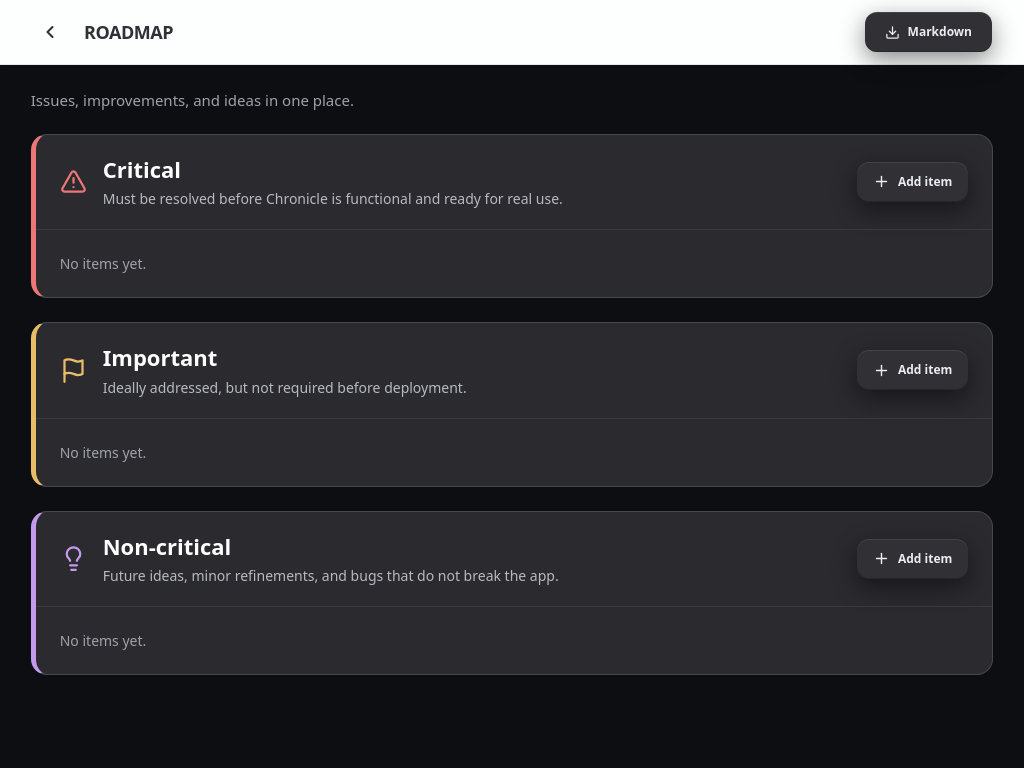
Scenario: Chronicle Roadmap › retains unsaved text on network failure and retries the same item
The image size is (1024, 768).
Expected: the heading "Critical" is shown, x1=103 y1=154 x2=181 y2=184
Click the button with aria-label "Add item to Critical" at [913, 182], box x1=857 y1=162 x2=968 y2=202
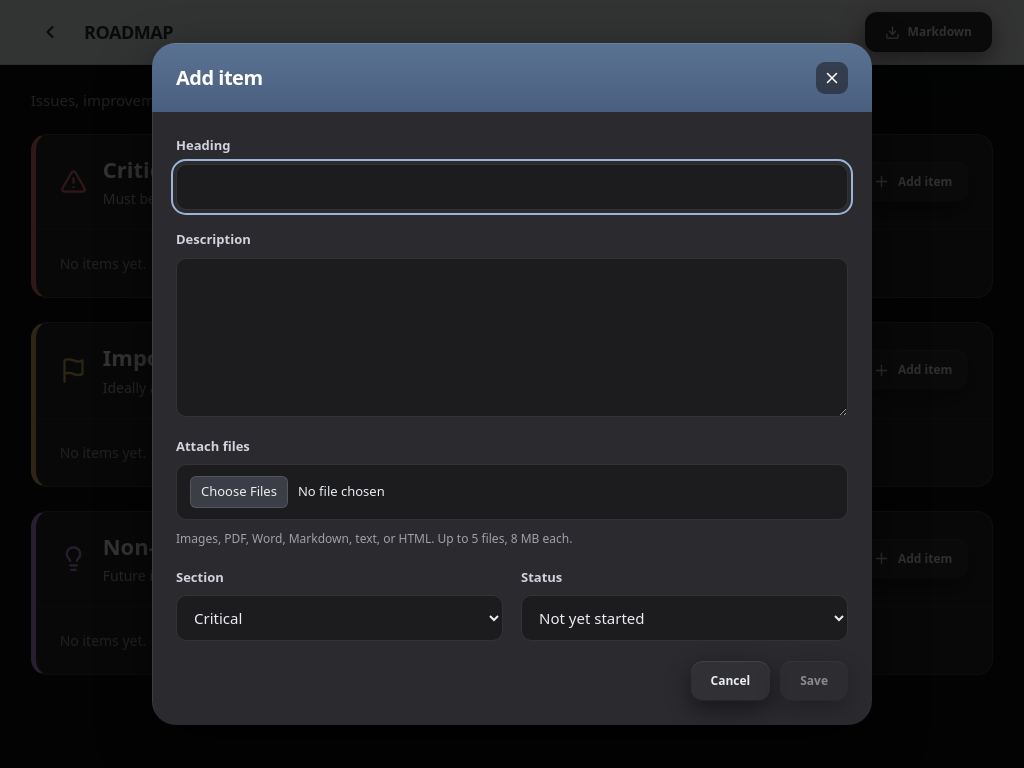
Type "Keep my draft" into the field labelled "Heading" at [512, 187], box x1=176 y1=164 x2=848 y2=210
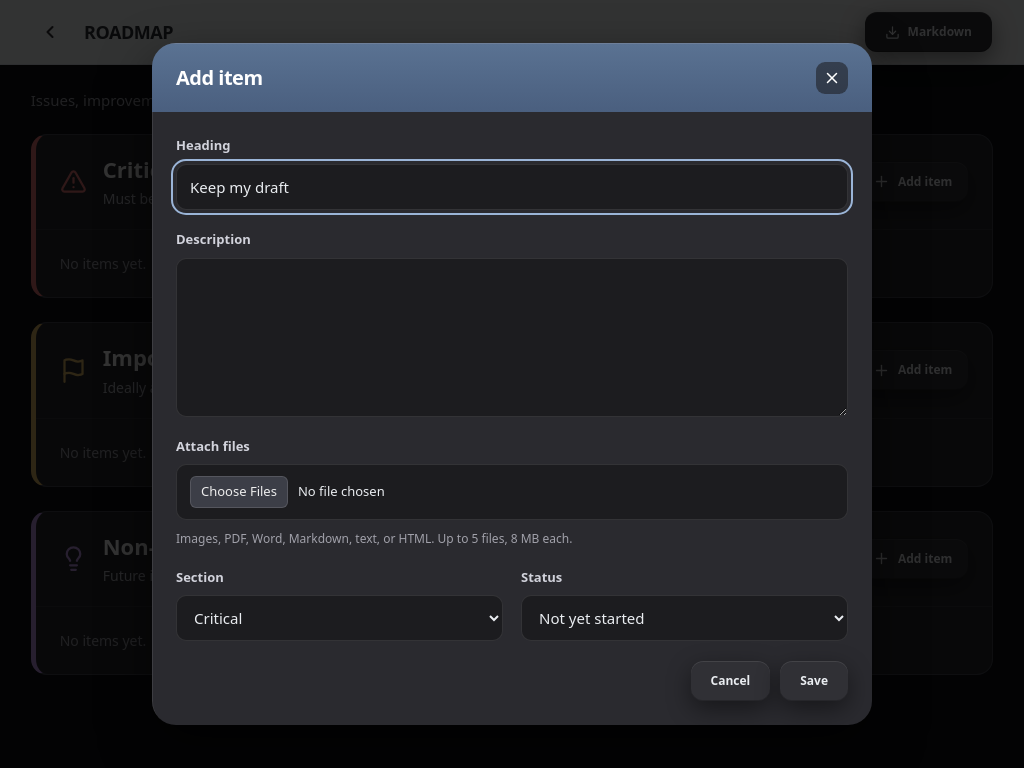
Click the button "Save" at [814, 681], box x1=780 y1=661 x2=848 y2=701
(page scrolled)
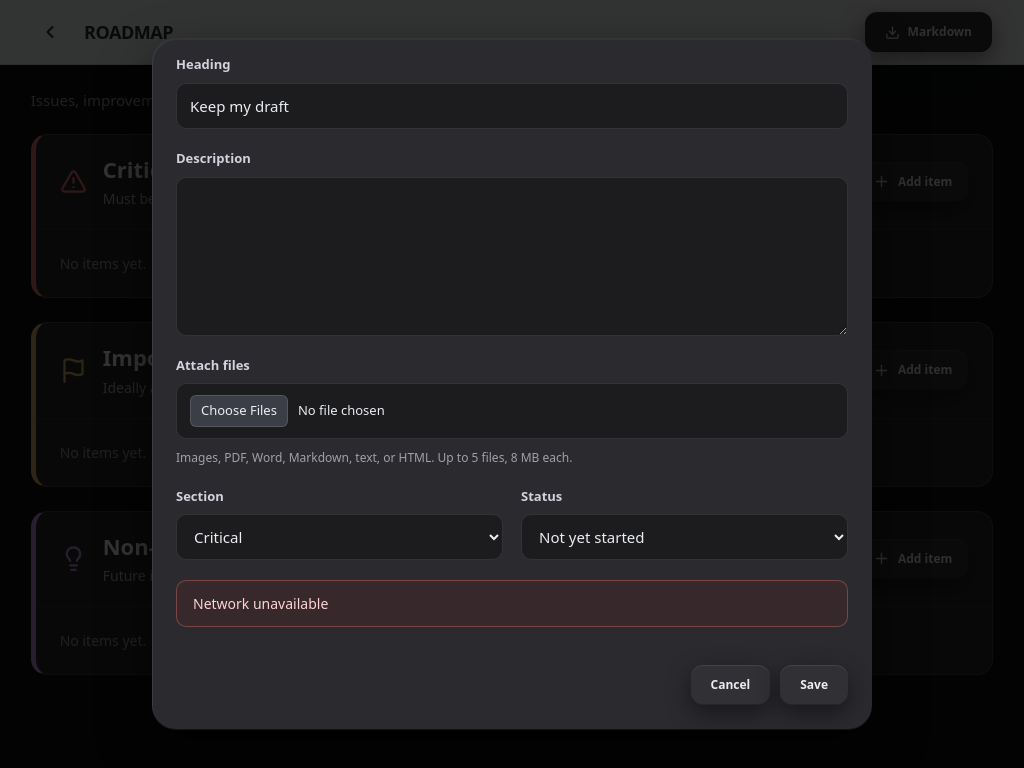
Expected: the message "Network unavailable" is shown, x1=176 y1=580 x2=848 y2=627
Click the button "Save" at [814, 685], box x1=780 y1=665 x2=848 y2=705
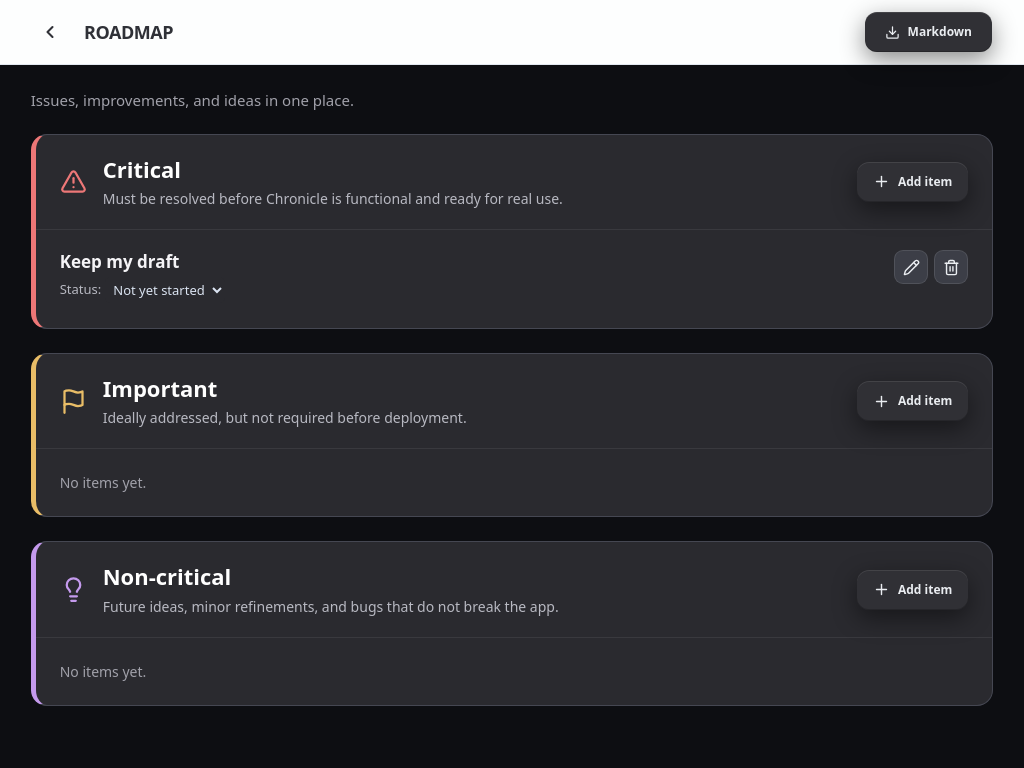
Expected: the dialog is gone
